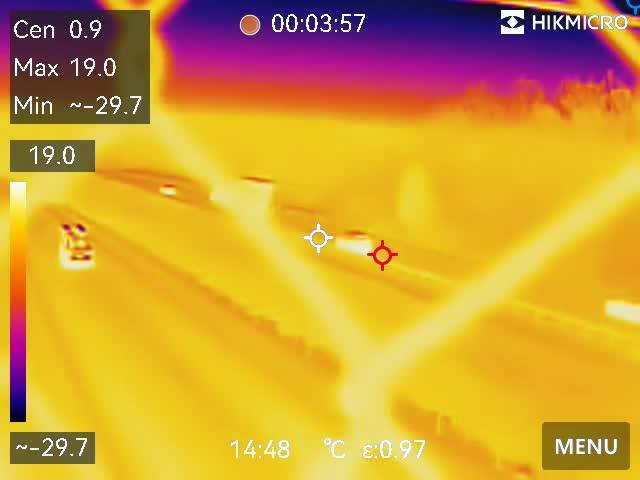lightTruck: (53, 220, 94, 265)
vehicle: (158, 180, 179, 199)
